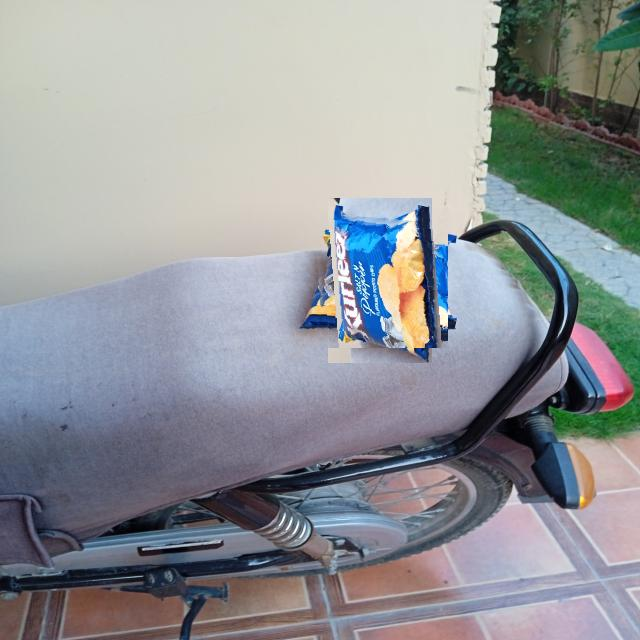Plastic: (313, 212, 448, 348)
